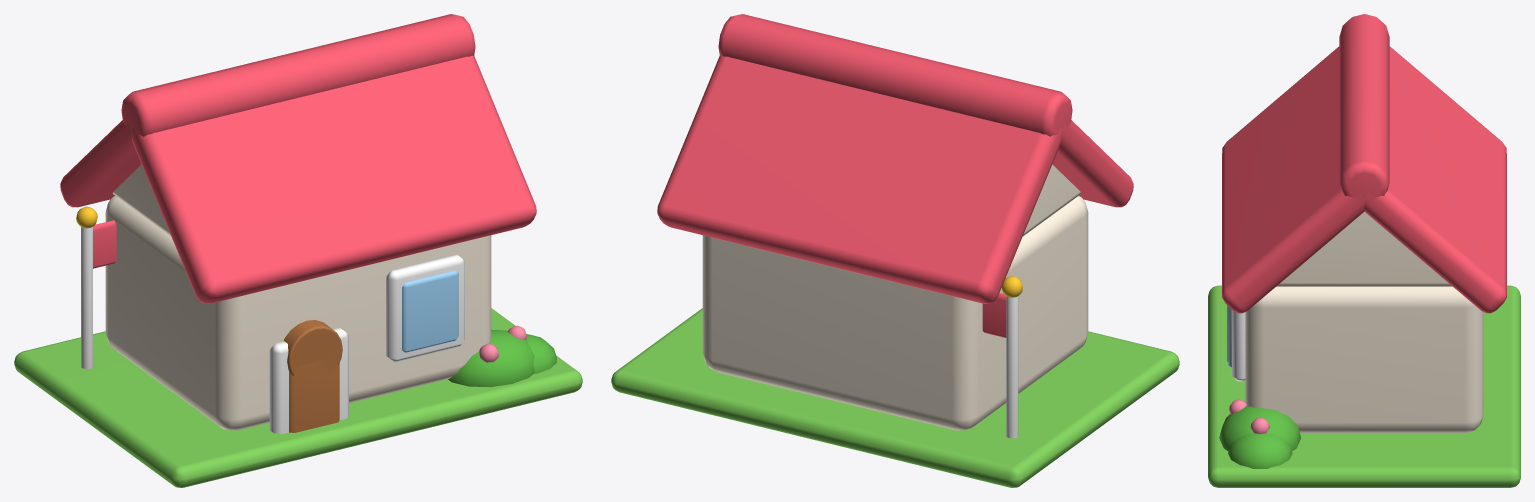
The picture shows the model from 3 angles, left to right: view 1: azimuth 30°, elevation 25°; view 2: azimuth 150°, elevation 25°; view 3: azimuth 270°, elevation 25°; orthographic projection. The views are drawn at different scales.
Parts seen in each view (by area): view 1: Cube; view 2: Cube; view 3: Cube.
Boxes of the visible parts, x1,y1,x2,y2 form: Cube: [14, 14, 582, 487]; Cube: [611, 14, 1179, 487]; Cube: [1208, 14, 1520, 487].
Size of the model in its own units: 0.6 by 0.4695 by 0.42.
